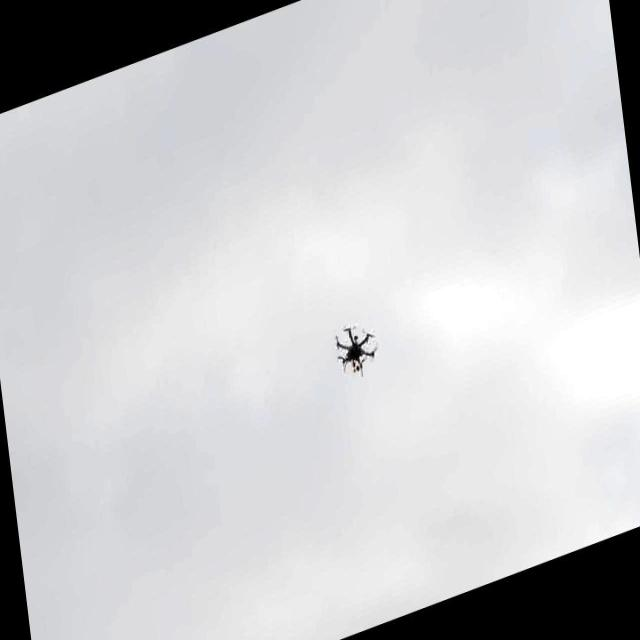drone: (330, 312, 380, 387)
